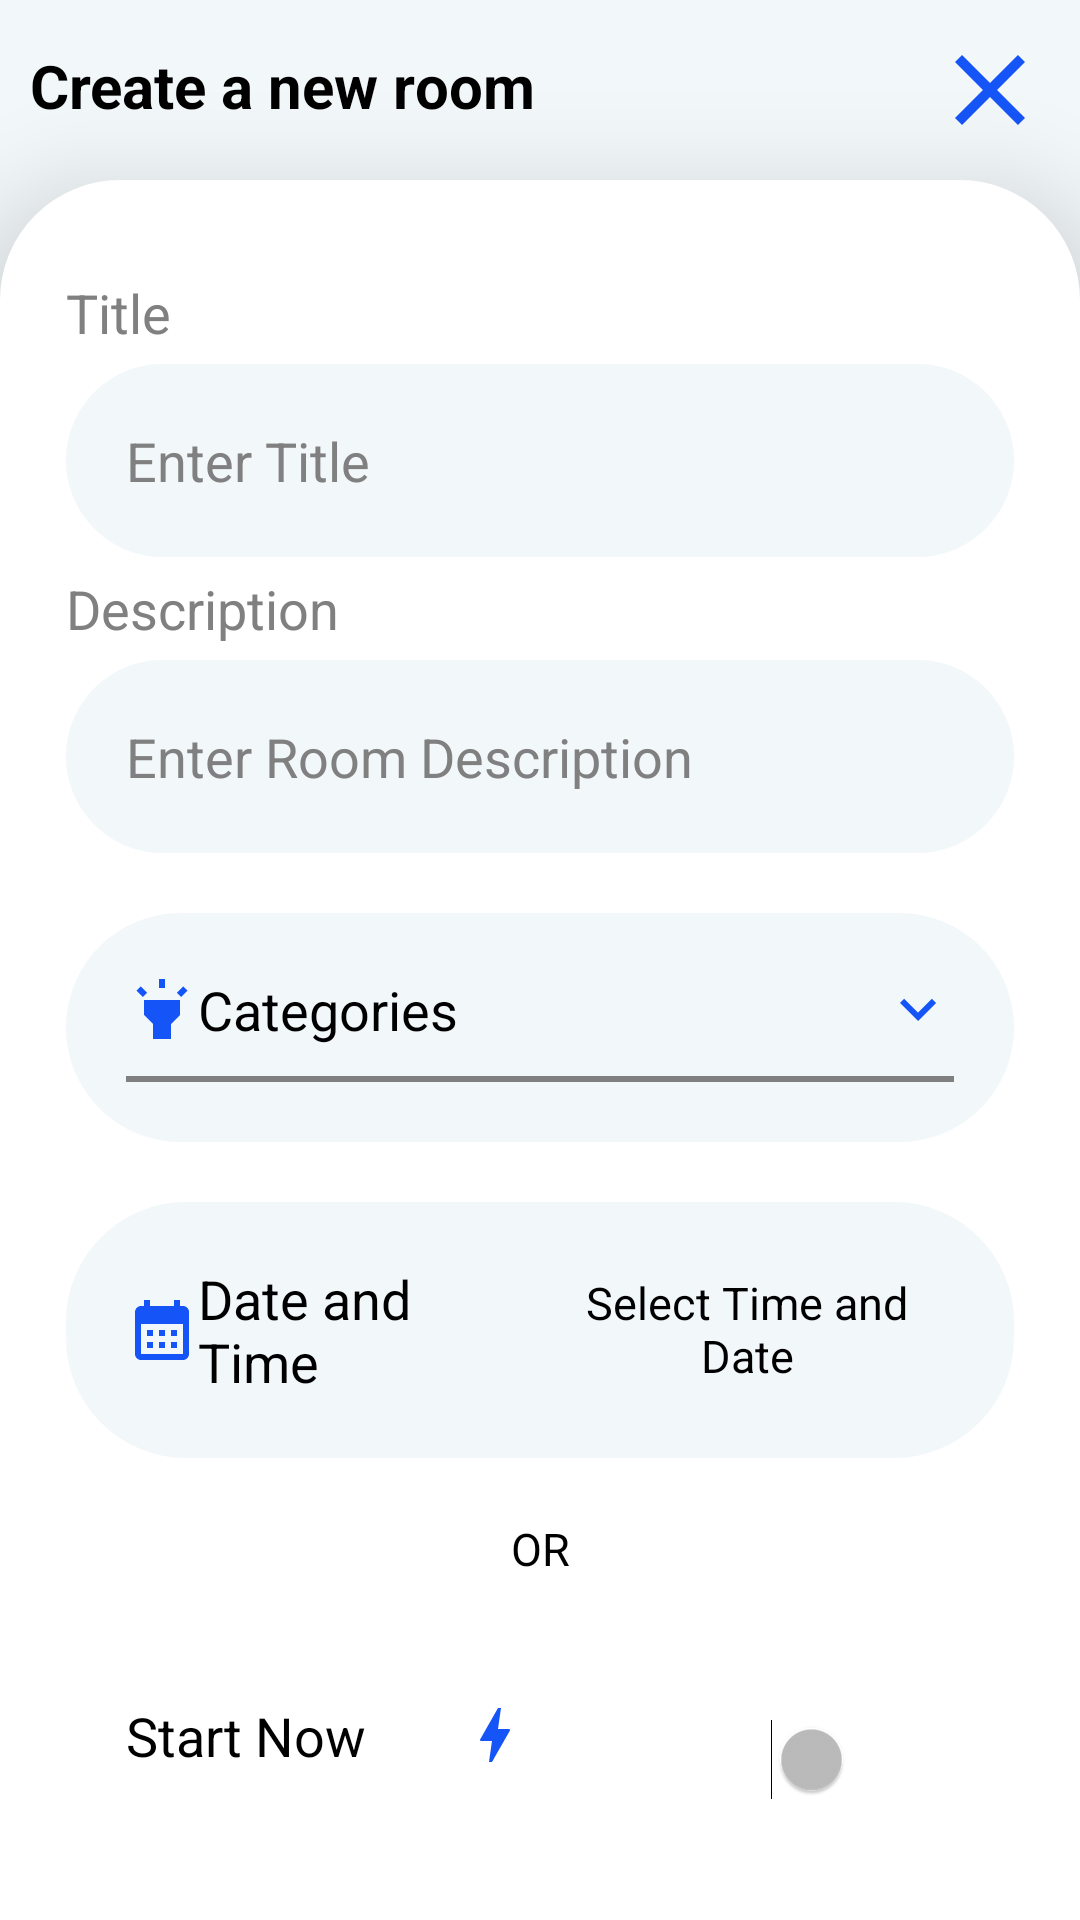

Screen size 1080w x 1920h. Icon name, then its center in pixels as point (x, y):
close: point (990, 90)
